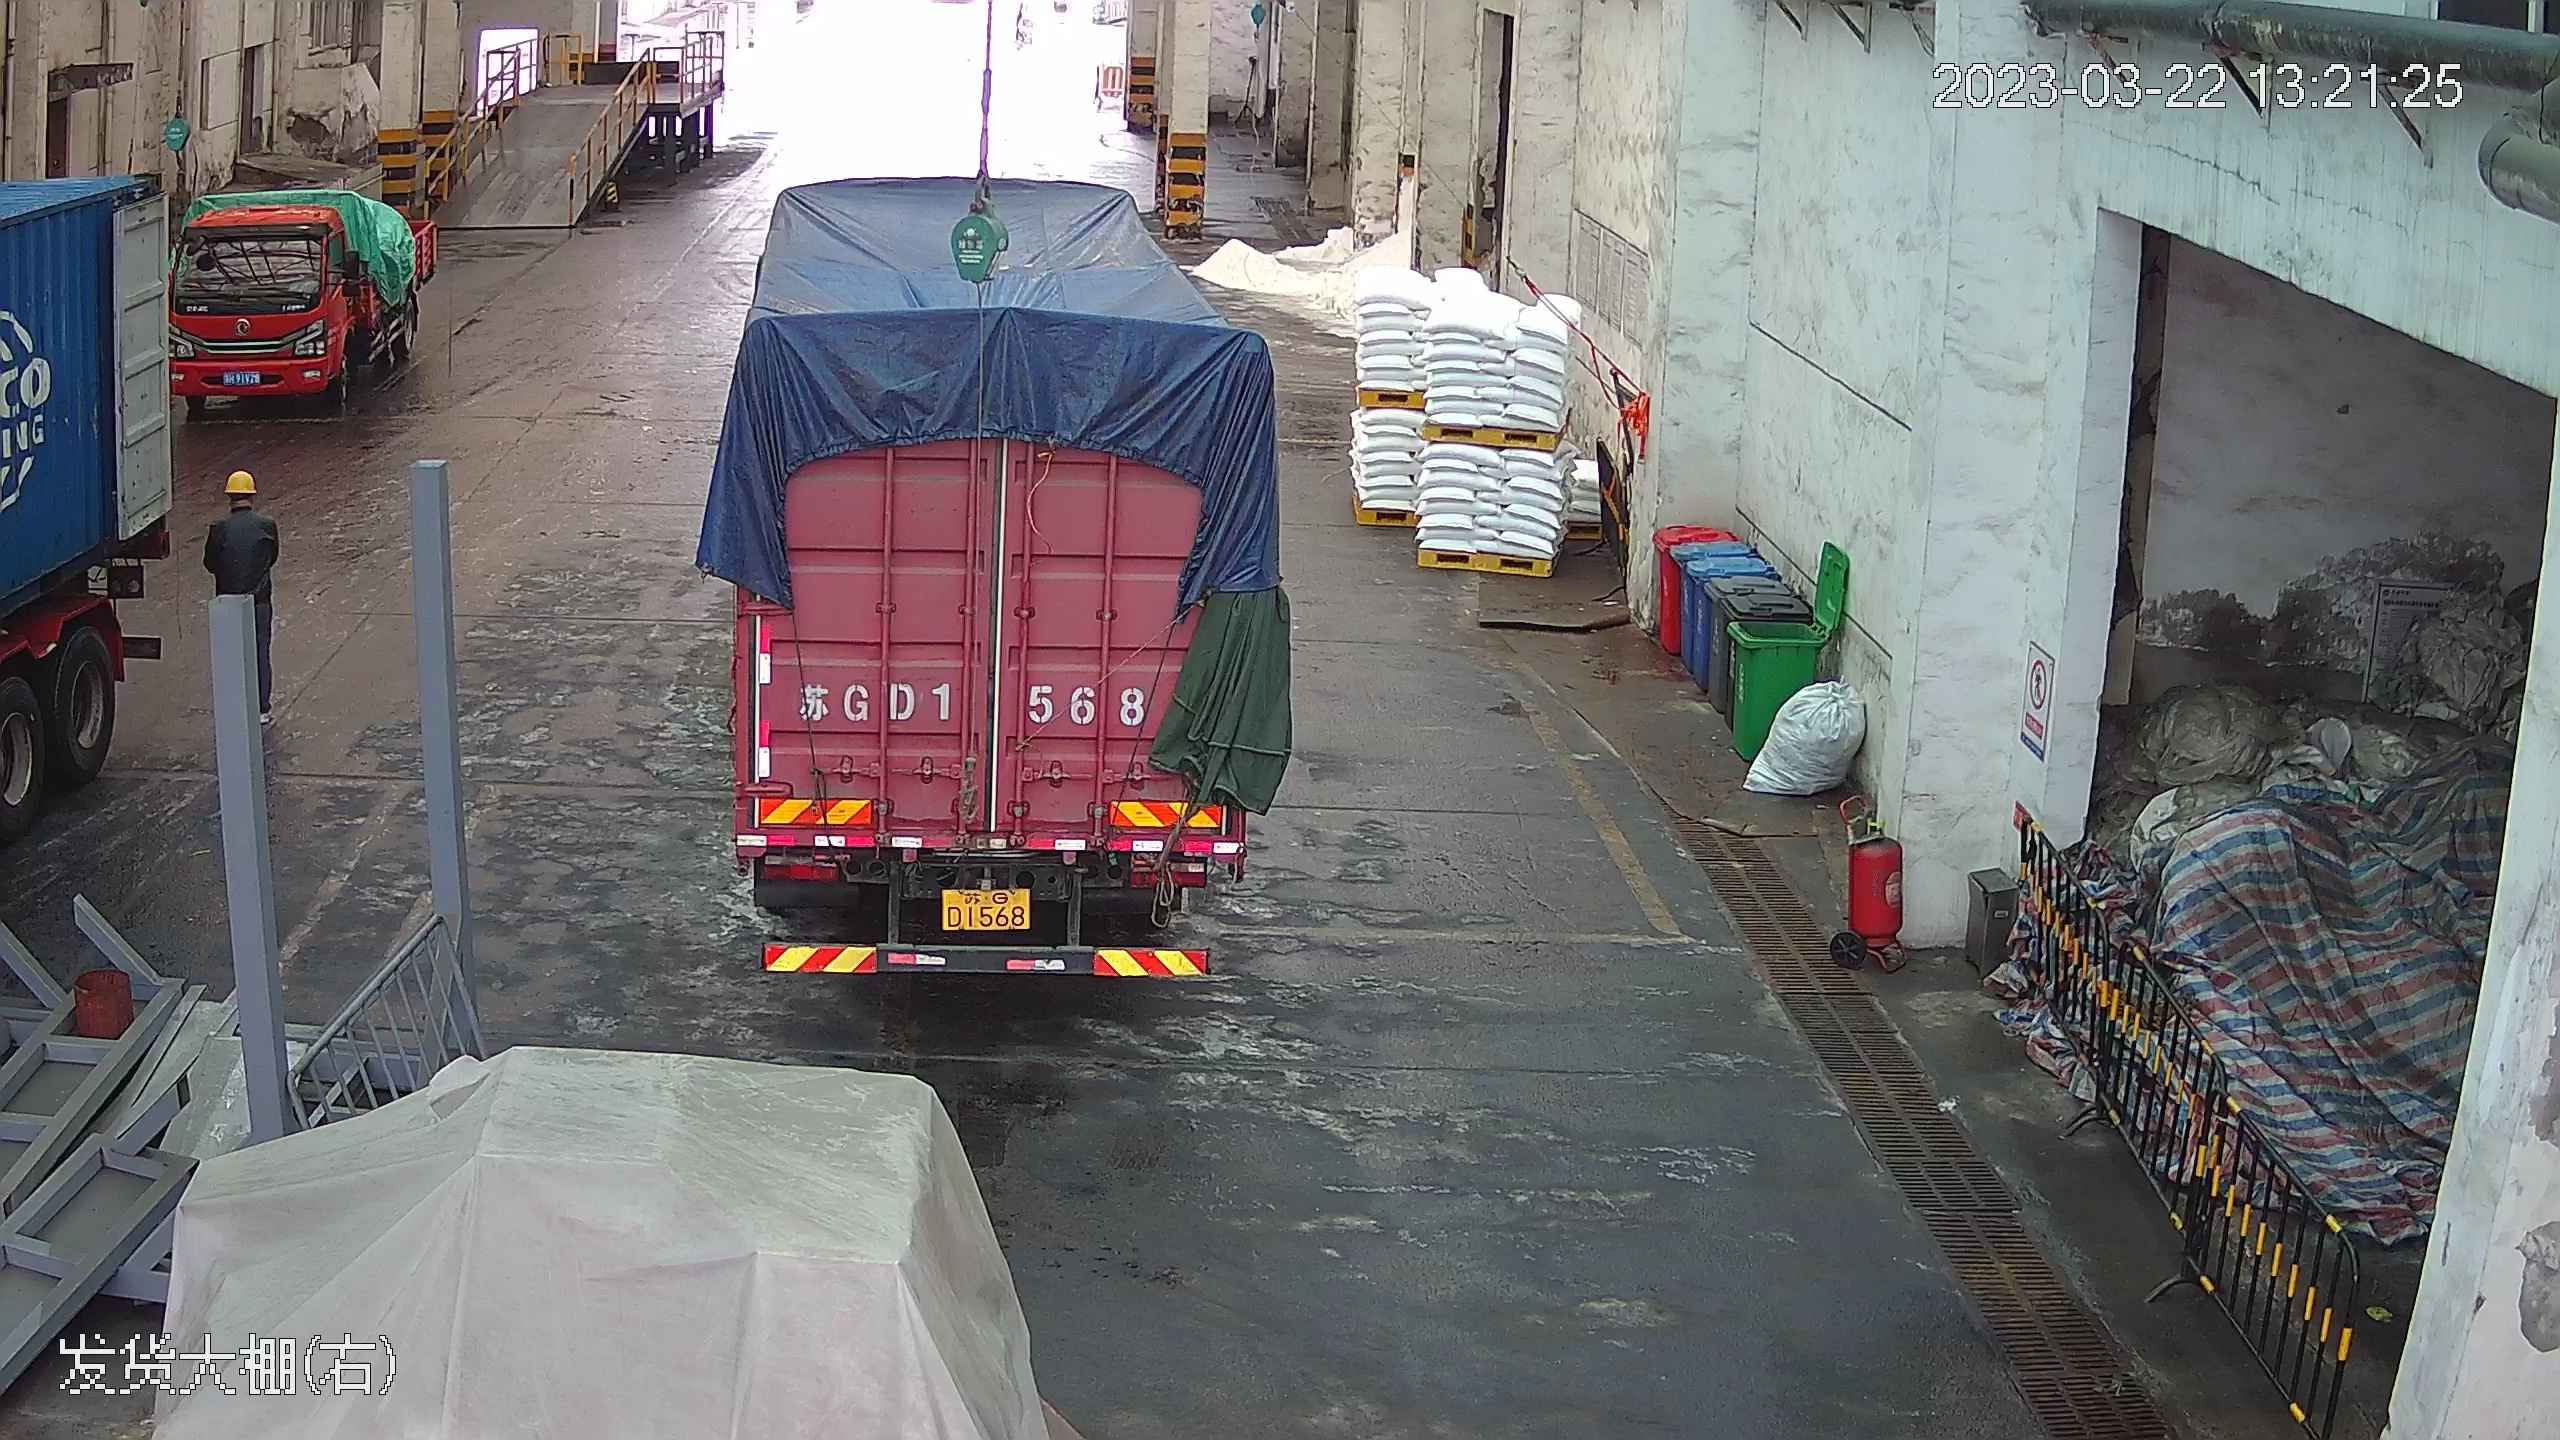head: (211, 468, 278, 540)
helmet: (221, 468, 255, 493)
people: (206, 463, 286, 713)
truck: (694, 96, 1294, 993), (0, 52, 147, 961), (163, 188, 439, 411), (0, 50, 69, 889)
